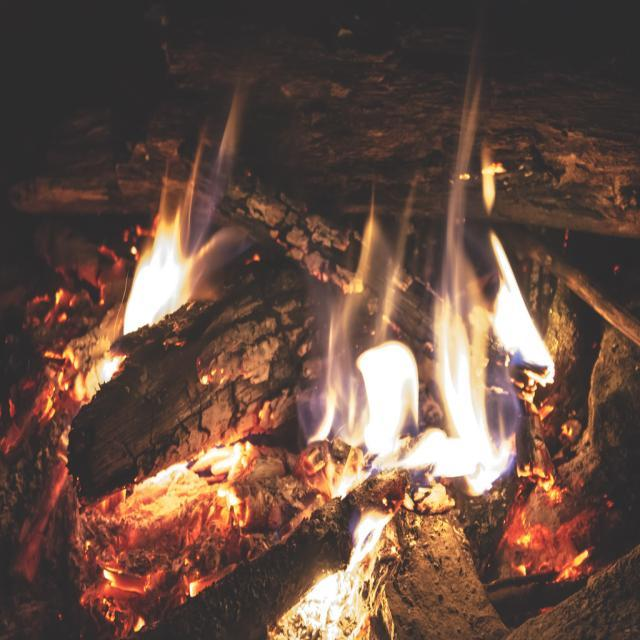Fire: (331, 328, 488, 462), (130, 224, 190, 328), (490, 288, 540, 360)
